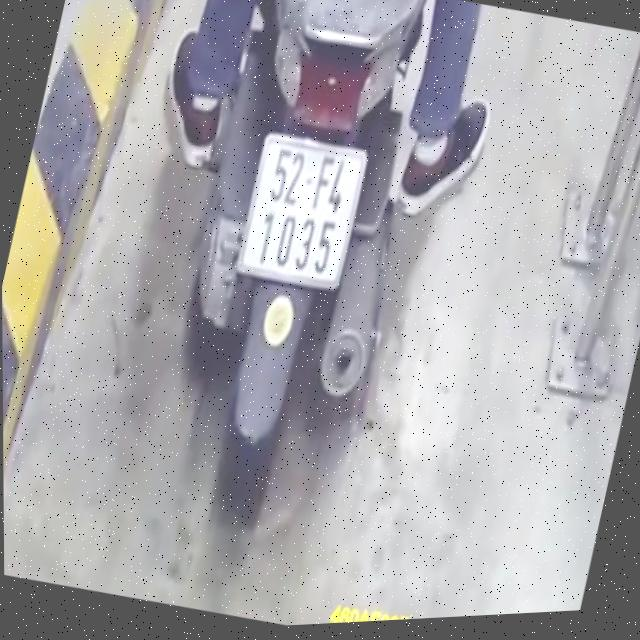motorcycle: (117, 0, 468, 565)
plate: (226, 121, 373, 301)
